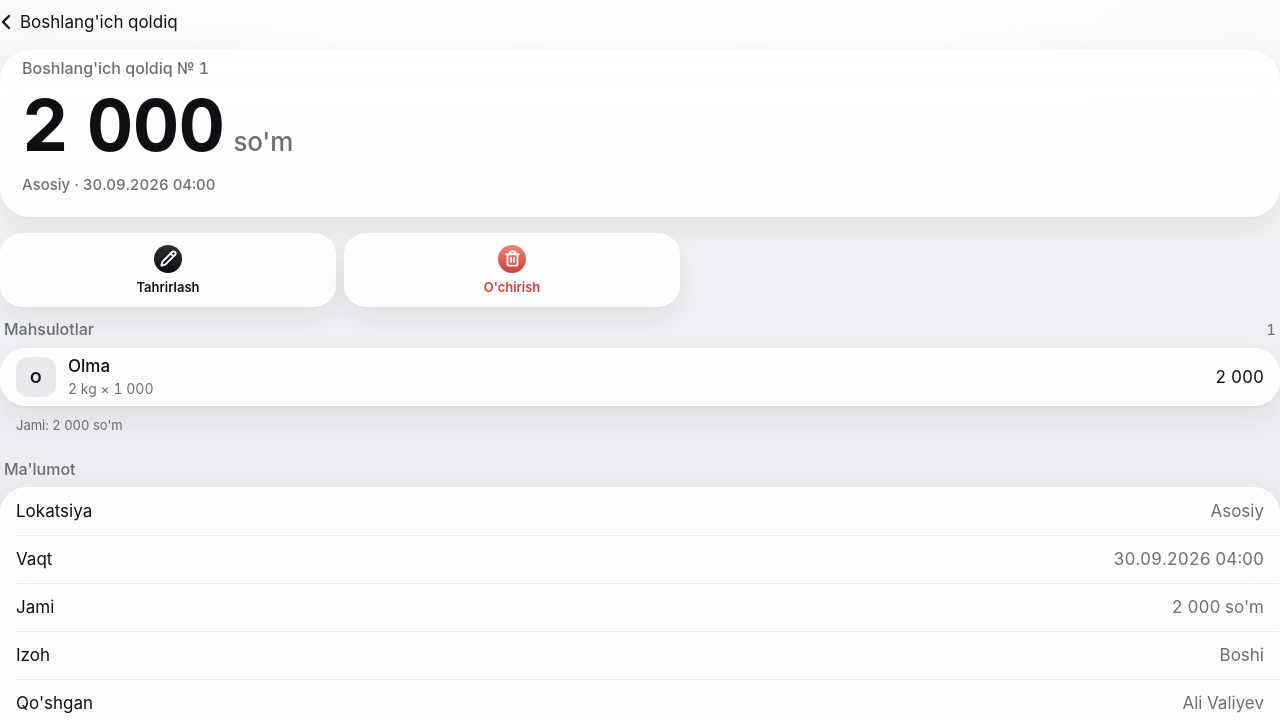
Scenario: deleting the opening stock takes its products out of the stock and leads to the list
This screenshot has width=1280, height=720.
Click the button "O'chirish": x=512, y=270 x1=344 y1=233 x2=680 y2=307
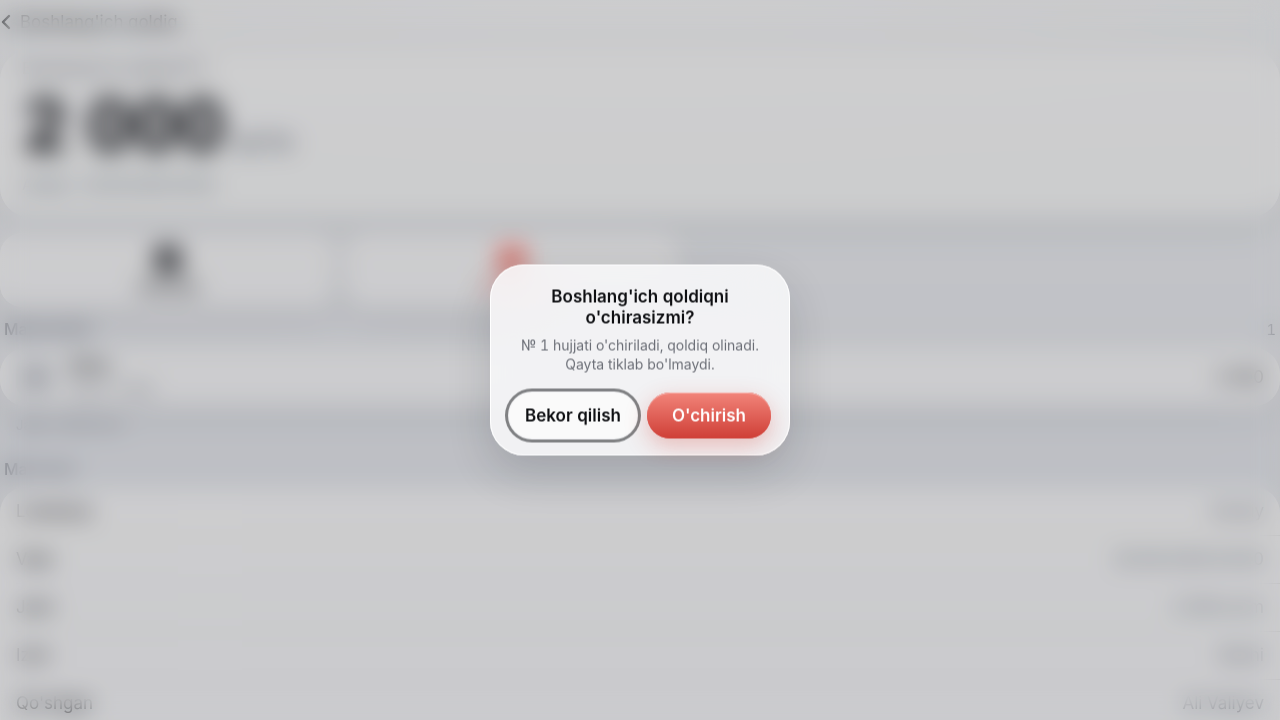
Result: the text "№ 1 hujjati o'chiriladi, qoldiq olinadi. Qayta tiklab bo'lmaydi." is shown at x1=508 y1=335 x2=772 y2=374
Click the button "O'chirish": x=709, y=416 x1=646 y1=392 x2=772 y2=440
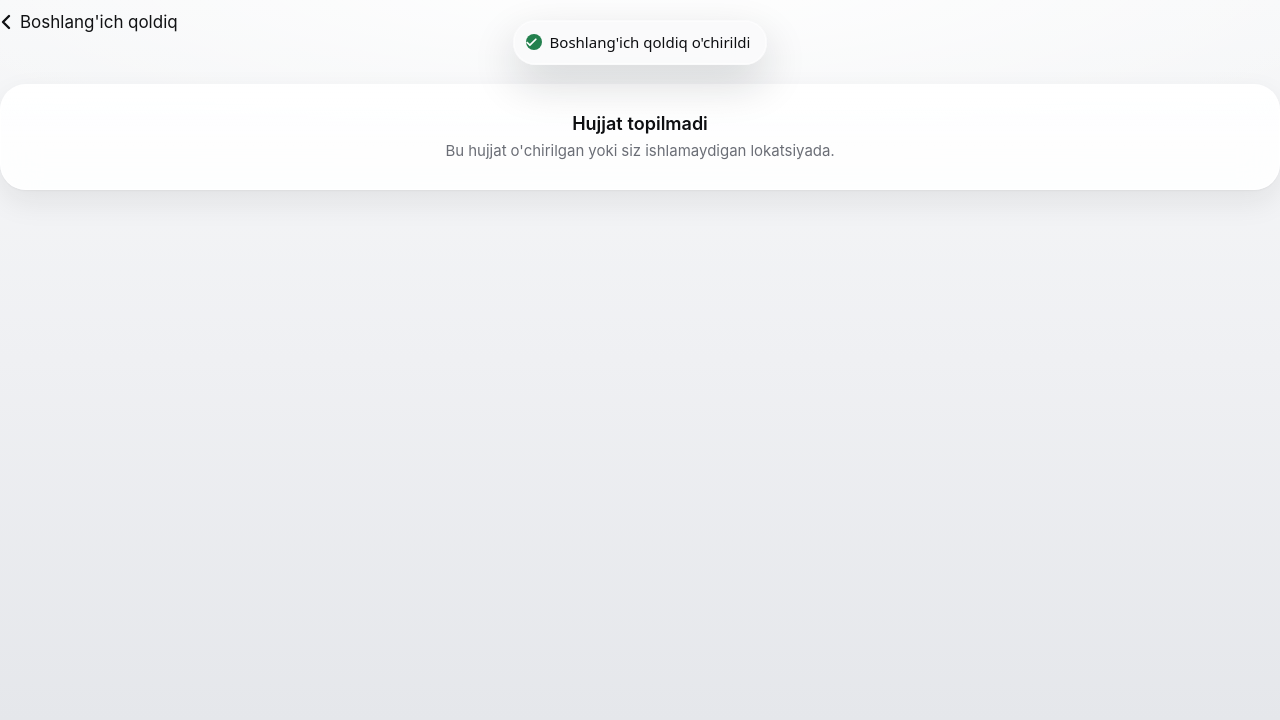
Result: the text "Boshlang'ich qoldiq o'chirildi" is shown at x1=550 y1=31 x2=750 y2=54
